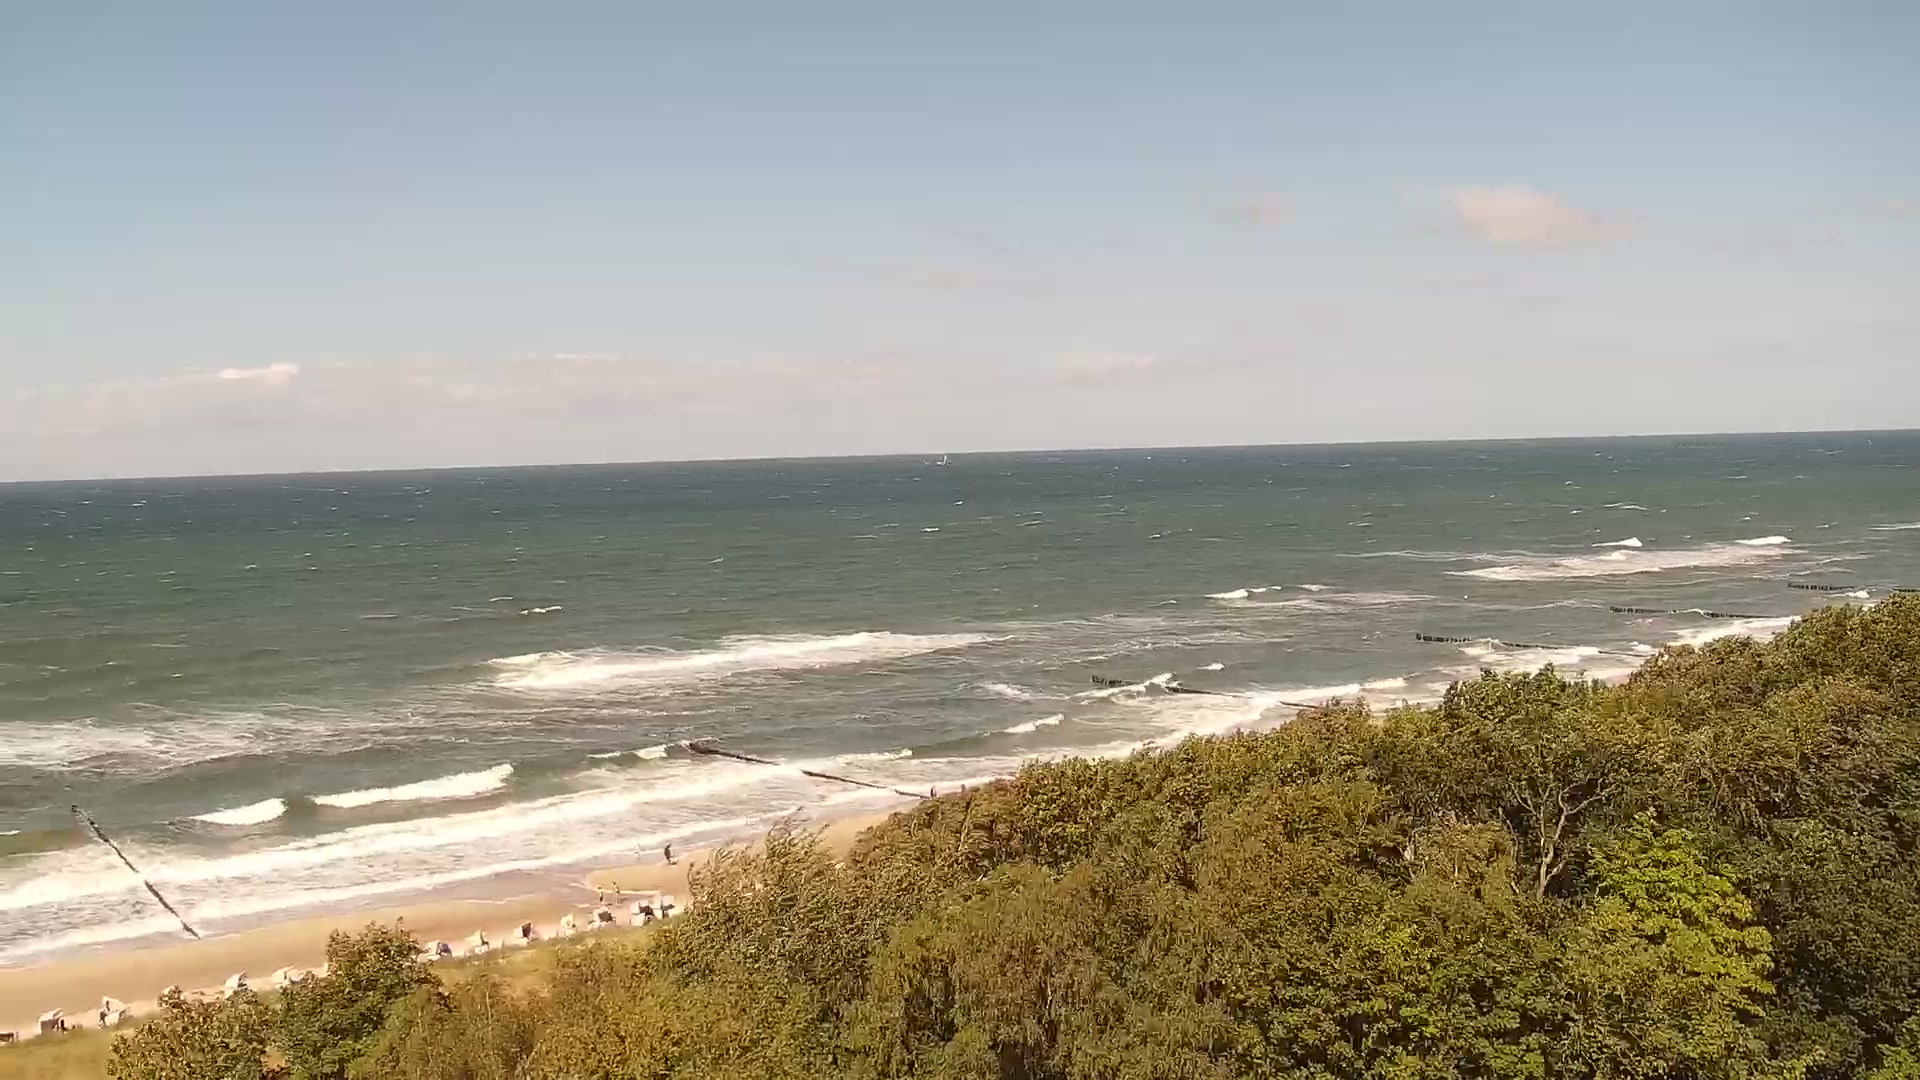human: (611, 879, 622, 904), (663, 842, 673, 864), (596, 884, 604, 903), (930, 784, 938, 799)
sea: (935, 453, 949, 466)
